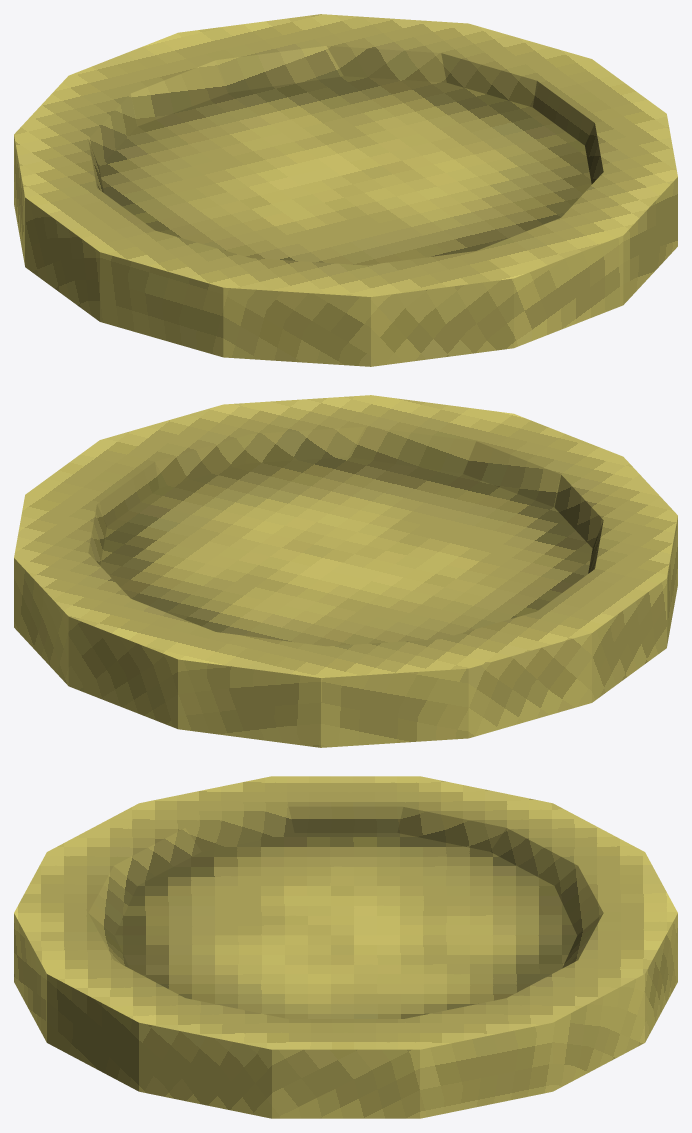
The model's file is Coin.glb.
The picture shows the model from 3 angles, top to bottom: view 1: azimuth 30°, elevation 25°; view 2: azimuth 150°, elevation 25°; view 3: azimuth 270°, elevation 25°; orthographic projection.
Visible parts, largest first — view 1: coin; view 2: coin; view 3: coin.
Part boxes in pixels (x1=…): coin: x1=14, y1=14, x2=677, y2=366; coin: x1=14, y1=395, x2=677, y2=747; coin: x1=14, y1=776, x2=677, y2=1118.
Bounding box in the file's own units: 1.95 × 0.2294 × 2.
1 material, 1 textured.
